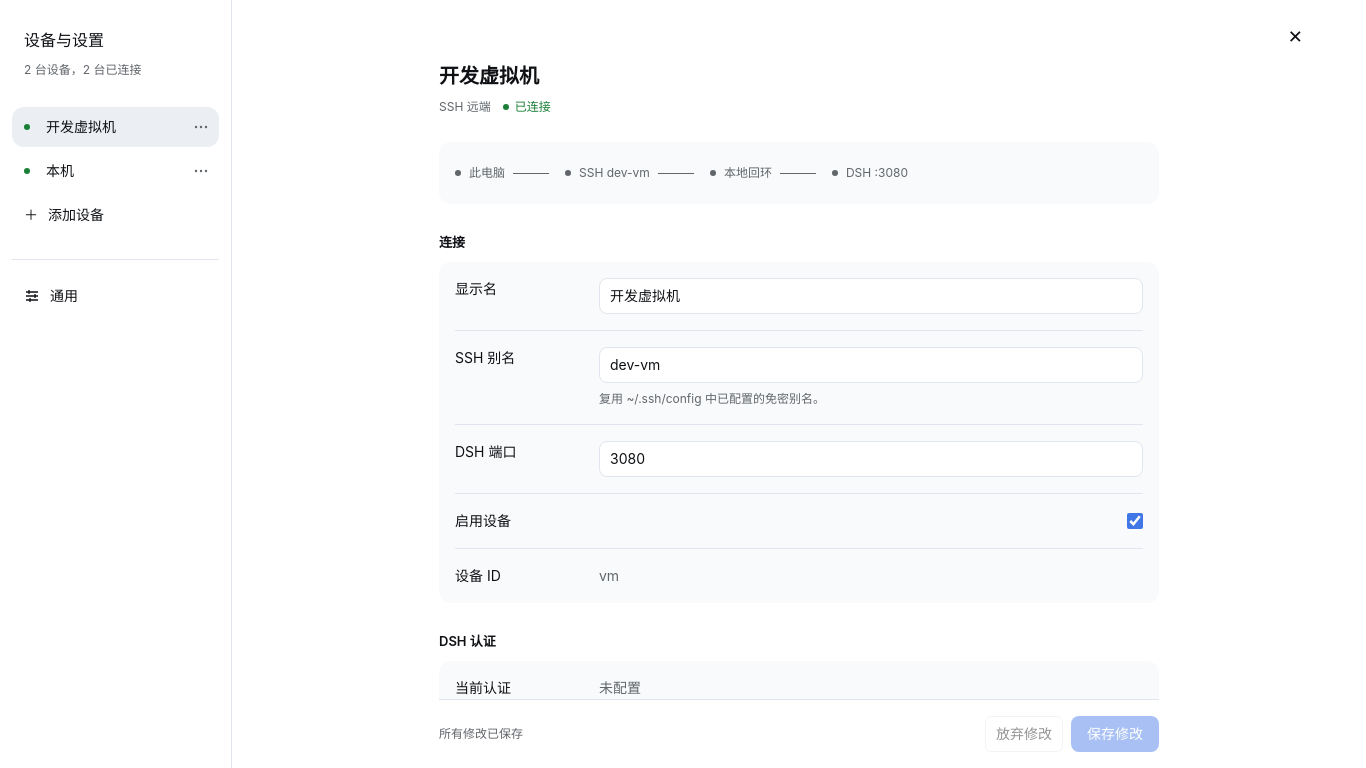
sidebar more menu › closes outside or on selection, with the last downward move disabled
Click the button named "本机 更多操作" at {"x": 201, "y": 171}, box [187, 154, 215, 188]
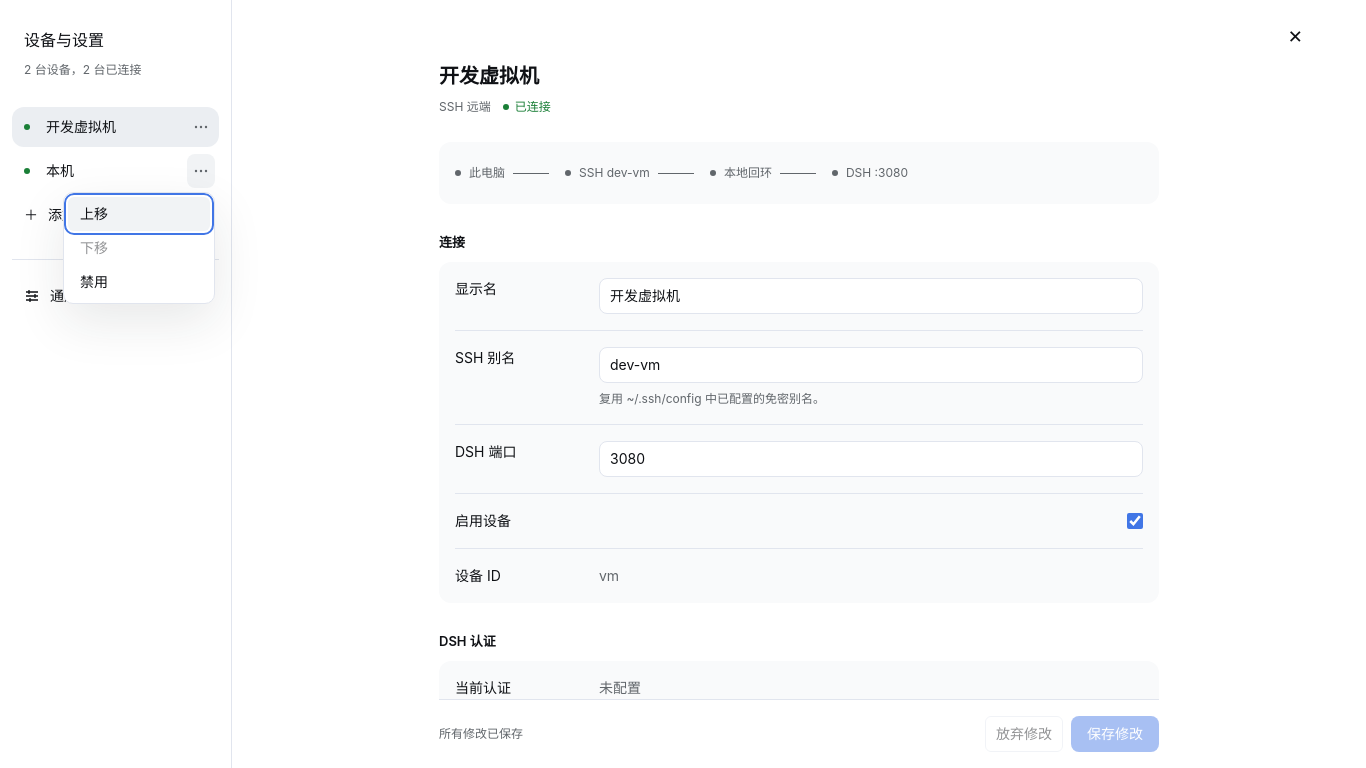
Result: the menu item with aria-label "下移本机" is disabled at [68, 231, 210, 265]
Press the mouse on the heading "开发虚拟机" at {"x": 495, "y": 76}, box [439, 62, 551, 90]
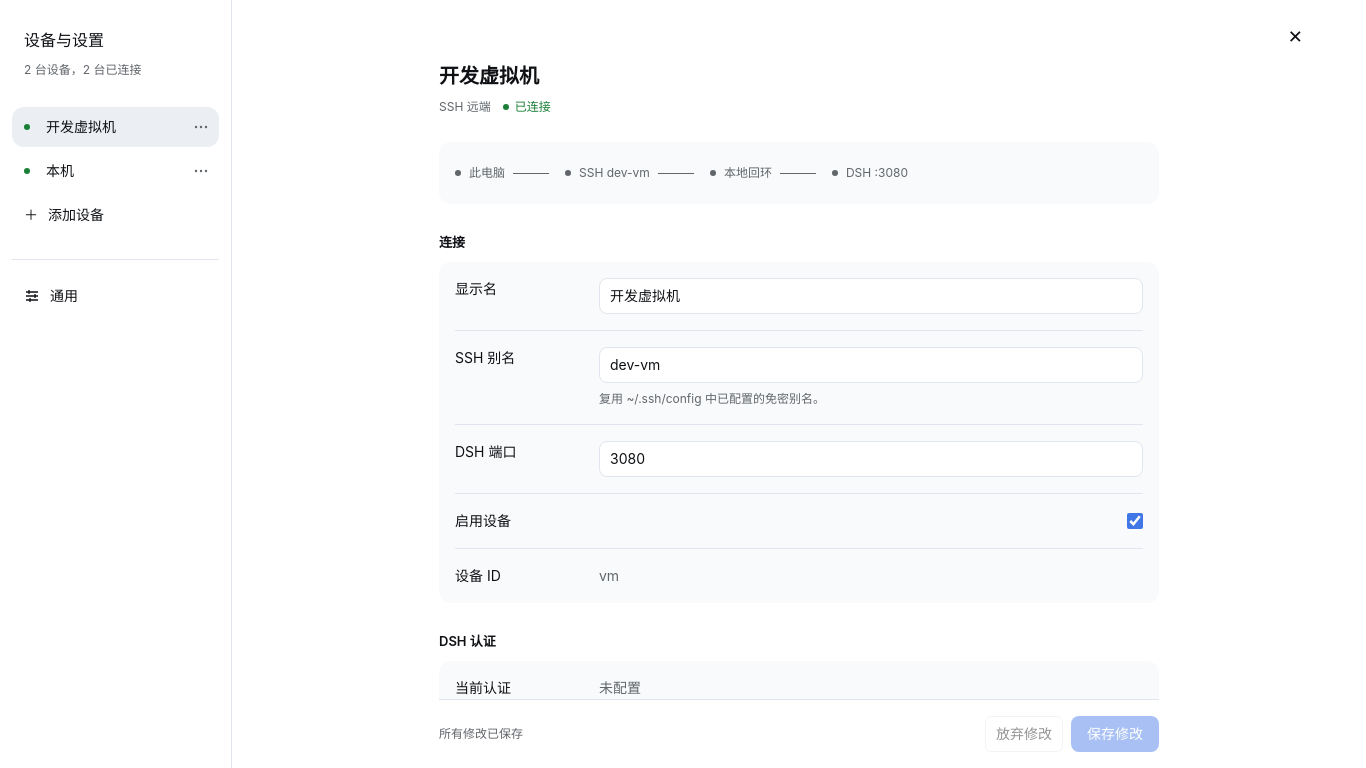
Result: the menu is gone
Click the button named "本机 更多操作" at {"x": 201, "y": 171}, box [187, 154, 215, 188]
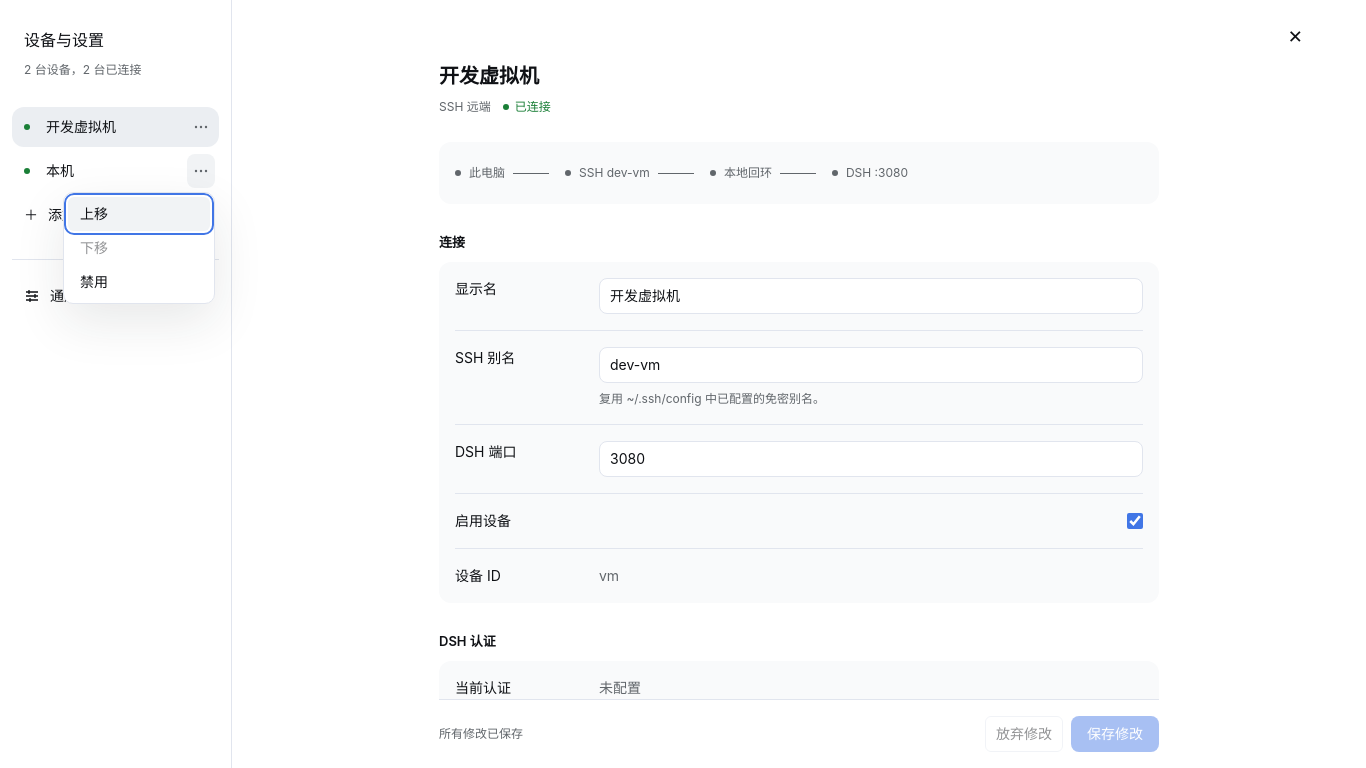
Click the button with aria-label "本机，已连接" at {"x": 100, "y": 171}, box [12, 151, 187, 191]
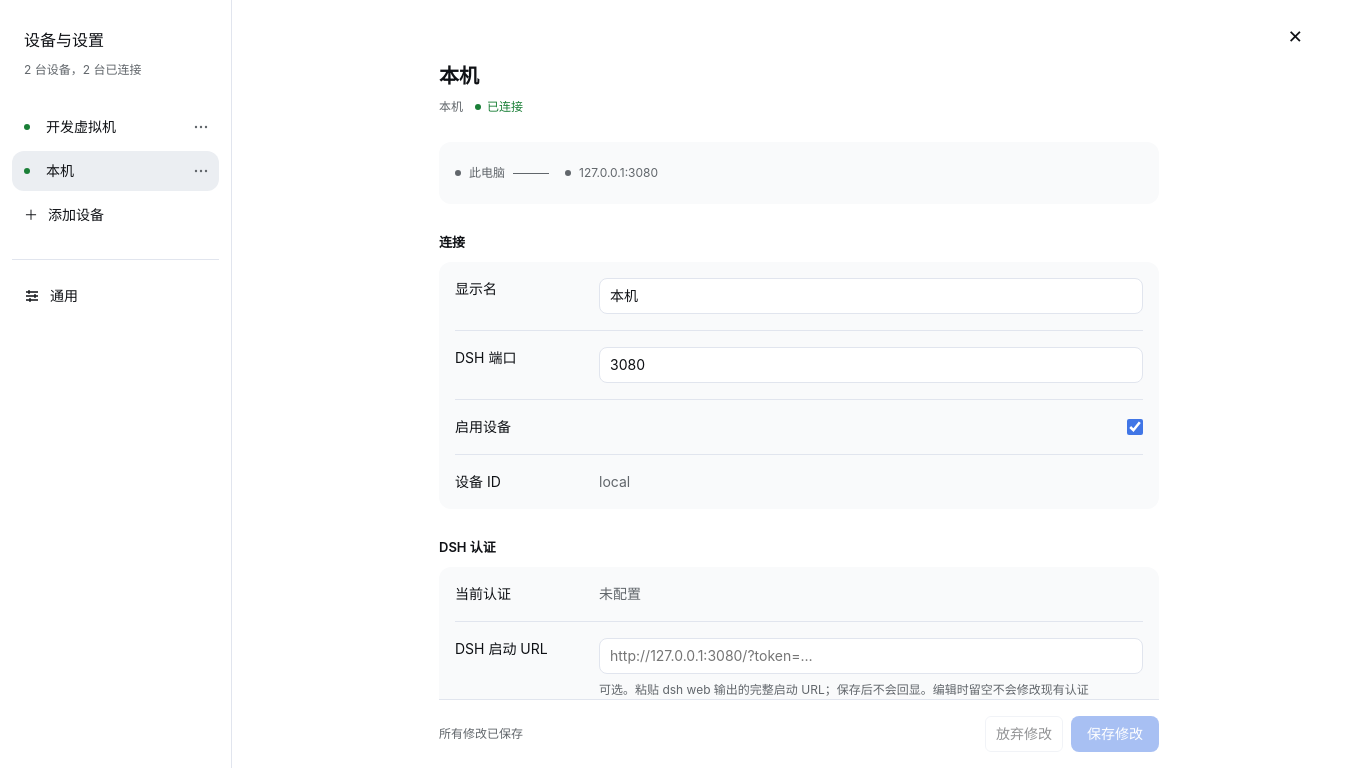
Result: the menu is gone
